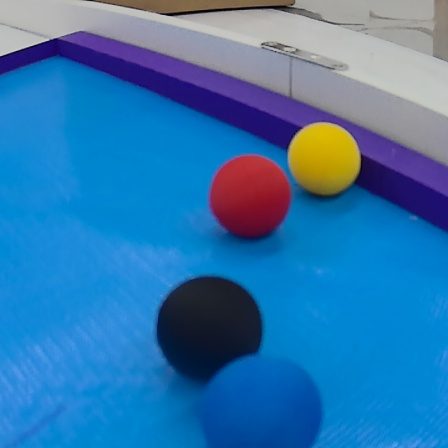black: (154, 270, 276, 382)
blue: (199, 355, 326, 448)
blue_aim: (3, 27, 448, 448)
red: (212, 152, 295, 246)
yellow: (284, 116, 367, 200)
